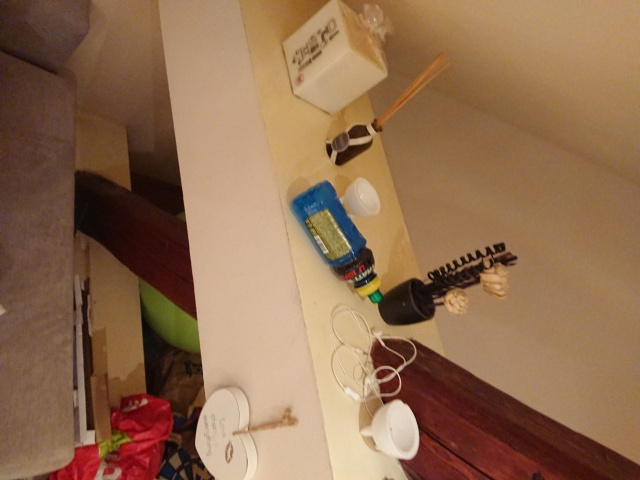Vindi Iso Sport Forest Strawberries 500mL: (288, 177, 384, 304)
